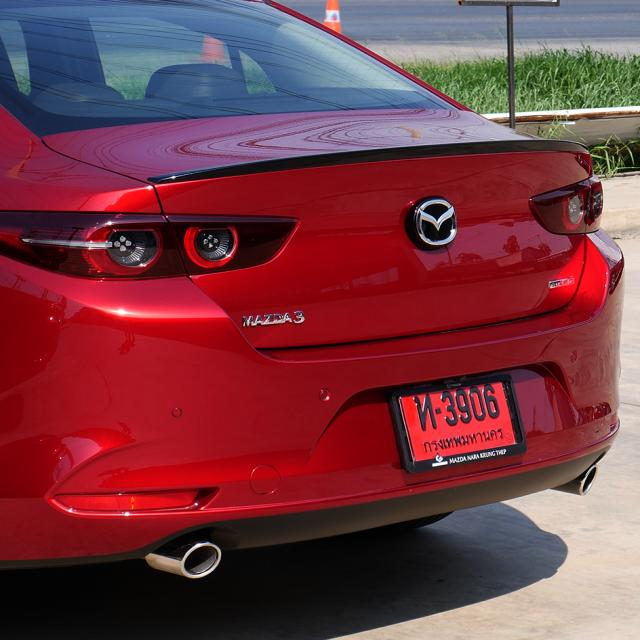license_plate: (387, 367, 527, 474)
